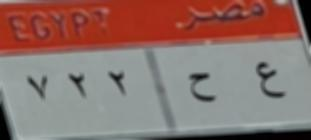2: (103, 66, 132, 102), (64, 70, 92, 106)
7: (23, 71, 52, 106)
7aa: (184, 68, 222, 107)
ain: (250, 58, 288, 104)
